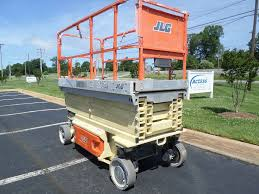Scissor Lift: (55, 1, 190, 191)
